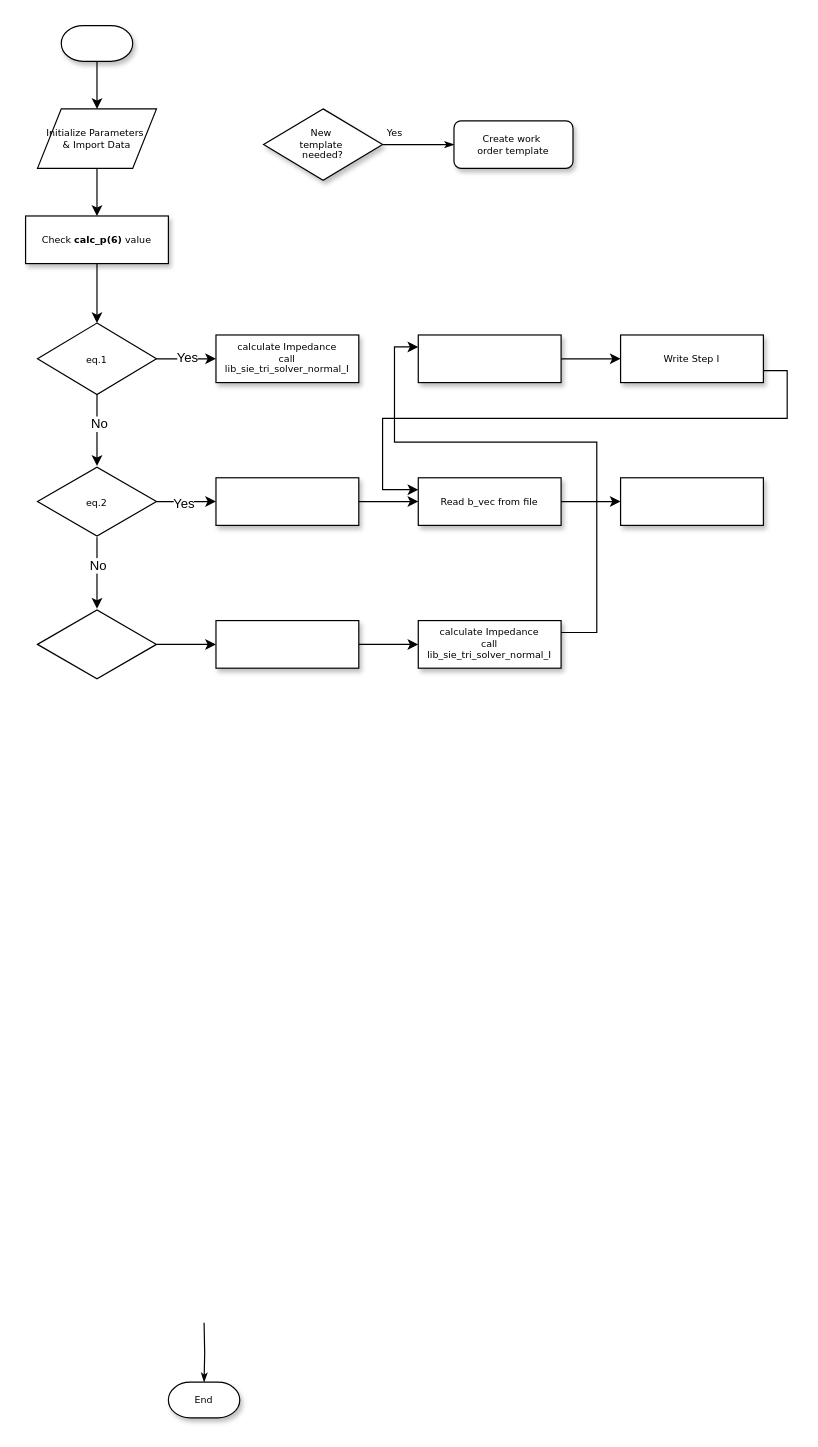
Image size: 818x1447. Some labels were removed from this diagram. Each missing label, with the centre of its shape:
"Both Impedance & Field call both I & II" goes at (x=288, y=646).
"Calculate Matrix & LU" goes at (x=490, y=360).
"eq.3" goes at (x=96, y=643).
"FIeld &Scattering call lib_sie_tri_solver_normal_II" goes at (x=288, y=503).
"Start" goes at (x=97, y=45).
"Write Field" goes at (x=693, y=503).
